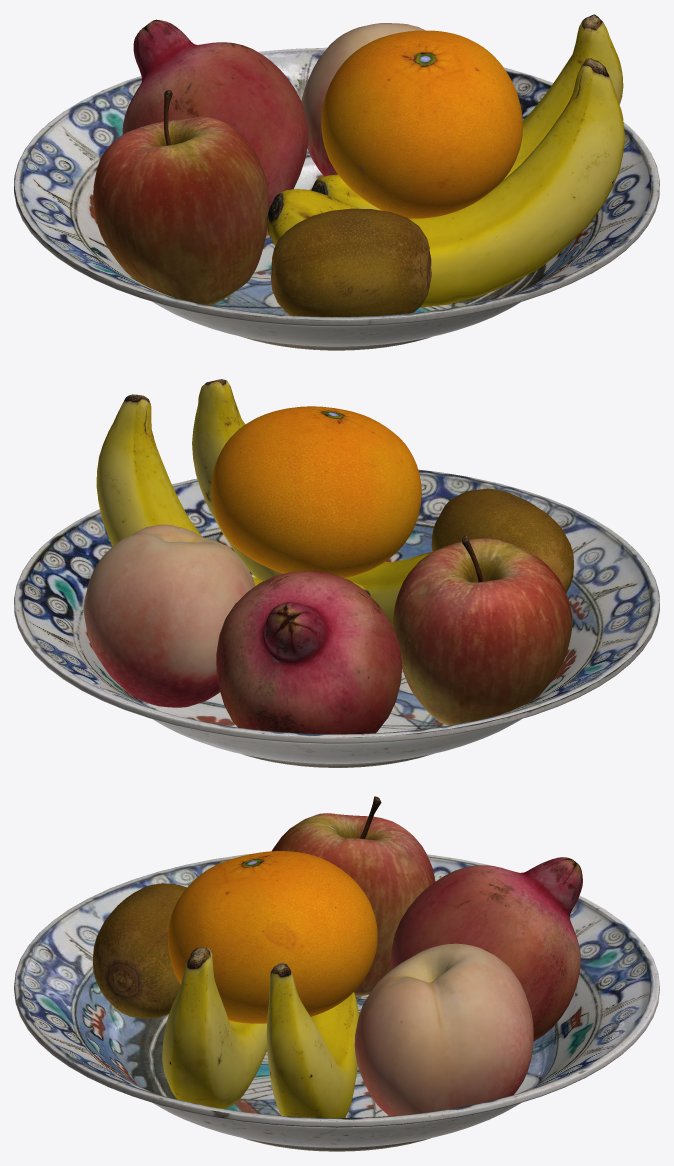
The model's file is 静物_水果_fruit_bowl_20260324203219_opt.glb.
The picture shows the model from 3 angles, top to bottom: view 1: azimuth 30°, elevation 25°; view 2: azimuth 150°, elevation 25°; view 3: azimuth 270°, elevation 25°; orthographic projection.
Parts seen in each view (by area): view 1: Banana_Banana_PBR_0, Mandarin_Orange_Mandarin_Orange_PBR_0, Circle_None_sf66-4-7cjpg_0, Apple_Apple_PBR_0, Pomegranate_Pomegranate_PBR_0, Kiwi_Kiwi_PBR_0, Circle_None_0, Peach_Peach_PBR_0; view 2: Circle_None_sf66-4-7cjpg_0, Mandarin_Orange_Mandarin_Orange_PBR_0, Apple_Apple_PBR_0, Pomegranate_Pomegranate_PBR_0, Peach_Peach_PBR_0, Banana_Banana_PBR_0, Circle_None_0, Kiwi_Kiwi_PBR_0; view 3: Circle_None_sf66-4-7cjpg_0, Mandarin_Orange_Mandarin_Orange_PBR_0, Peach_Peach_PBR_0, Banana_Banana_PBR_0, Pomegranate_Pomegranate_PBR_0, Apple_Apple_PBR_0, Circle_None_0, Kiwi_Kiwi_PBR_0.
Part boxes in pixels (x1,y1,x2,y2): Banana_Banana_PBR_0: (266, 14, 625, 307); Mandarin_Orange_Mandarin_Orange_PBR_0: (321, 30, 522, 218); Circle_None_sf66-4-7cjpg_0: (15, 47, 658, 319); Apple_Apple_PBR_0: (93, 89, 269, 305); Pomegranate_Pomegranate_PBR_0: (122, 19, 308, 207); Kiwi_Kiwi_PBR_0: (271, 208, 431, 316); Circle_None_0: (14, 128, 659, 350); Peach_Peach_PBR_0: (301, 23, 425, 176); Circle_None_sf66-4-7cjpg_0: (15, 469, 658, 737); Mandarin_Orange_Mandarin_Orange_PBR_0: (211, 406, 421, 577); Apple_Apple_PBR_0: (393, 534, 572, 725); Pomegranate_Pomegranate_PBR_0: (216, 570, 402, 734); Peach_Peach_PBR_0: (84, 524, 255, 707); Banana_Banana_PBR_0: (96, 379, 433, 628); Circle_None_0: (14, 546, 659, 767); Kiwi_Kiwi_PBR_0: (431, 488, 573, 593); Circle_None_sf66-4-7cjpg_0: (15, 853, 658, 1121); Mandarin_Orange_Mandarin_Orange_PBR_0: (168, 851, 377, 1023); Peach_Peach_PBR_0: (354, 943, 533, 1115); Banana_Banana_PBR_0: (162, 947, 359, 1117); Pomegranate_Pomegranate_PBR_0: (391, 857, 582, 1041); Apple_Apple_PBR_0: (272, 796, 435, 996); Circle_None_0: (14, 923, 659, 1151); Kiwi_Kiwi_PBR_0: (93, 883, 186, 1018).
Bounding box in the file's own units: 0.2522 × 0.1079 × 0.2522.
Materials: 8 (8 with a texture image).
